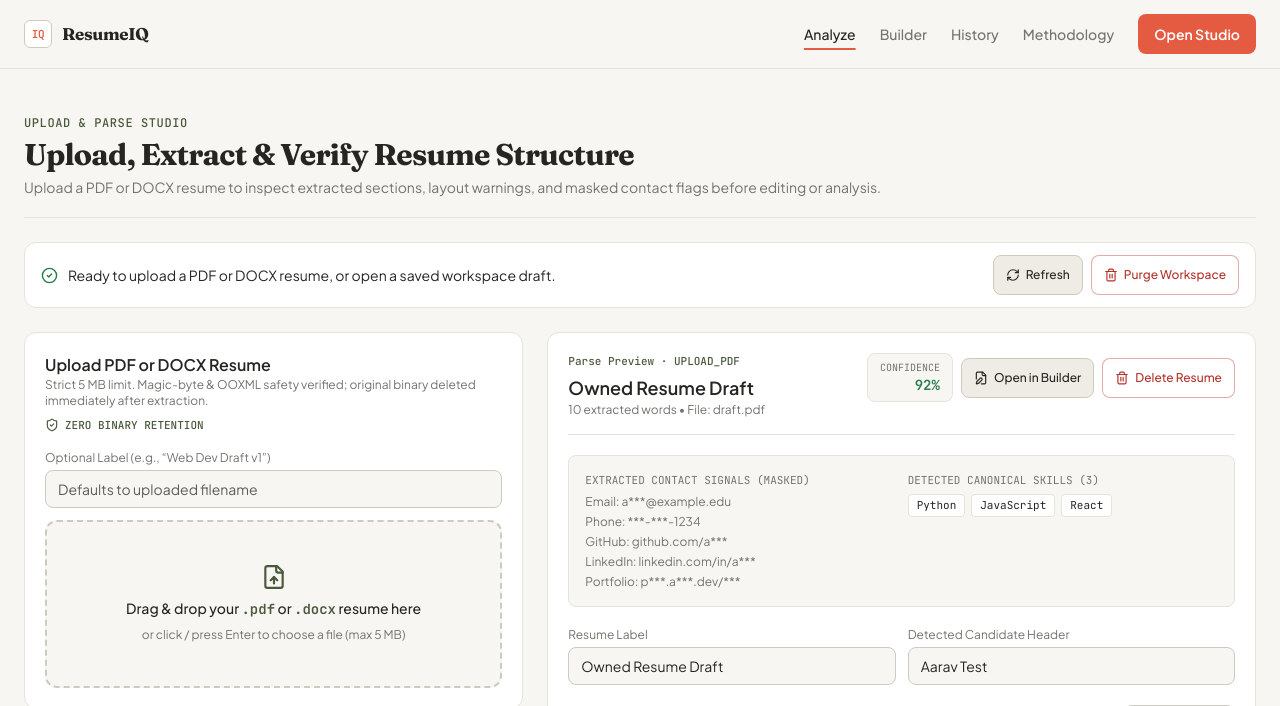
Phase 5 Resume Upload & Editable Parse Preview › requires confirmation before deleting a resume or purging workspace session
Later steps or results of the test are not shown.
Expected: the text "JavaScript" is shown, [971,494,1055,516]
Expected: the list item "GitHub: github.com/a***" is shown, [585,534,728,549]
Click the button "Delete Resume" at (1169, 378), box [1102,358,1235,398]
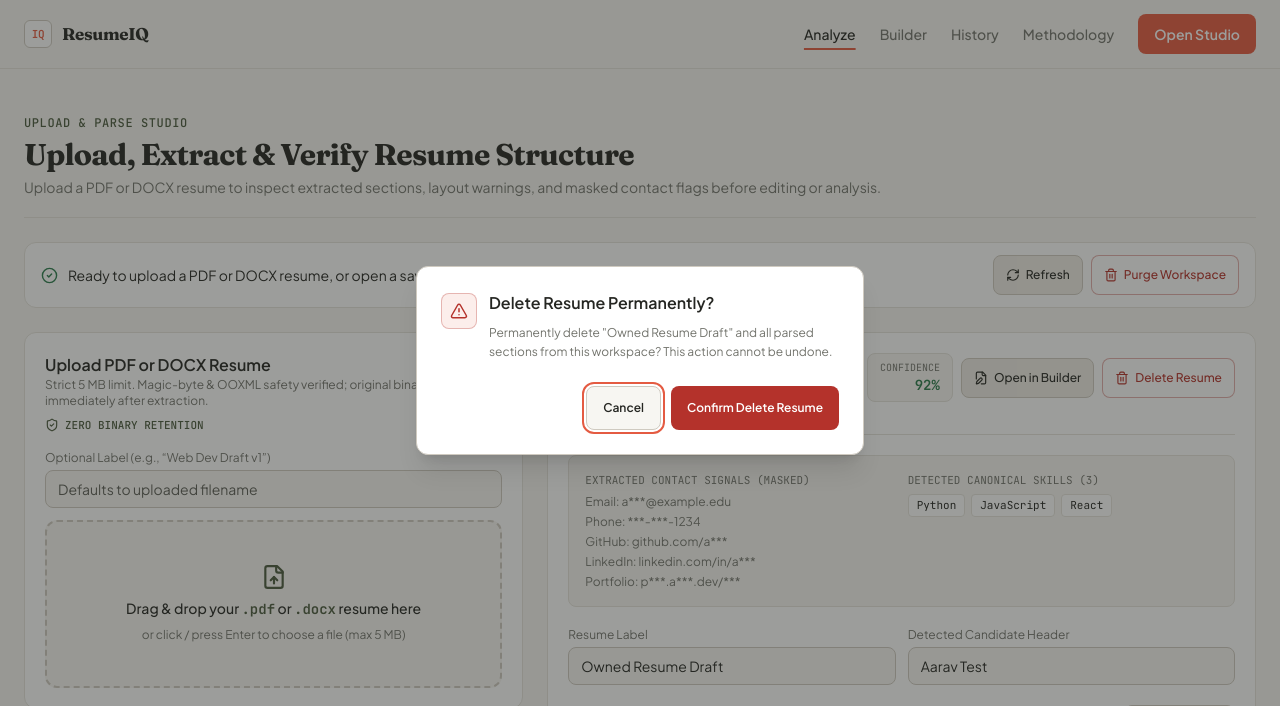
Expected: the dialog shows "Delete Resume Permanently", [489,292,714,312]
Press Escape
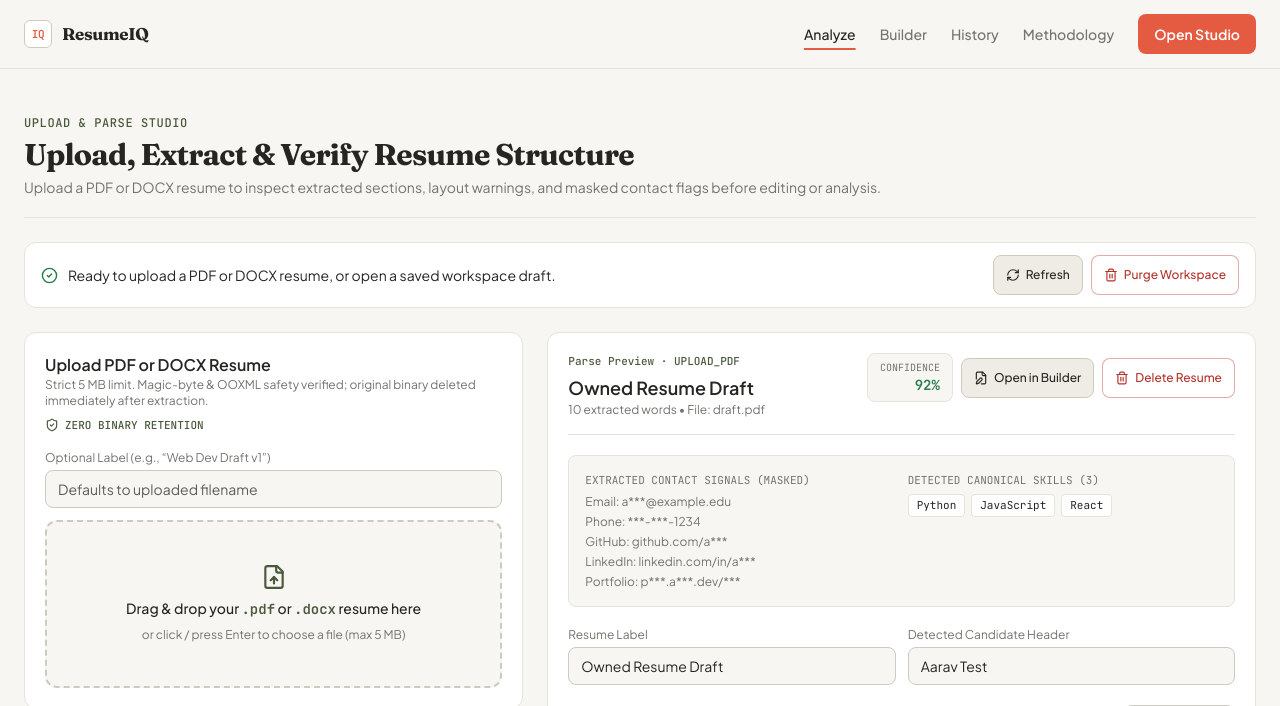
Expected: the dialog is gone
Click the button "Delete Resume" at (1169, 378), box [1102,358,1235,398]
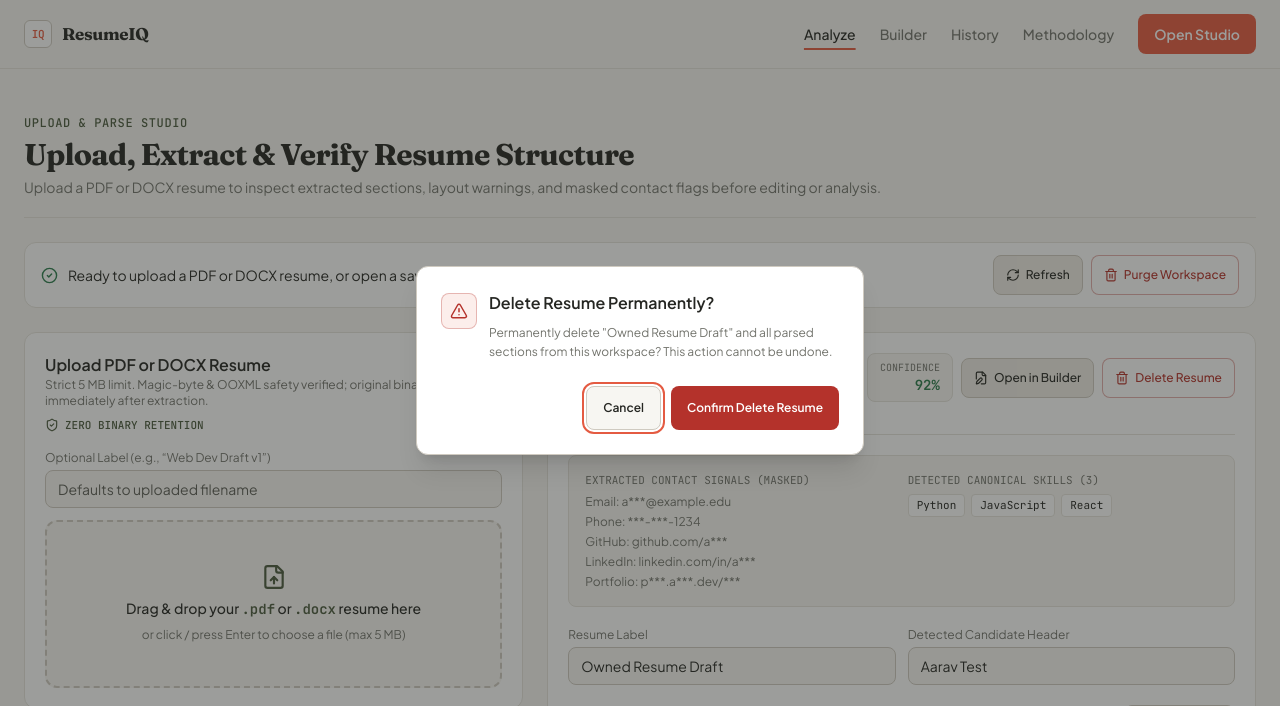
Click the button "Confirm Delete Resume" at (755, 408), box [671,386,839,430]
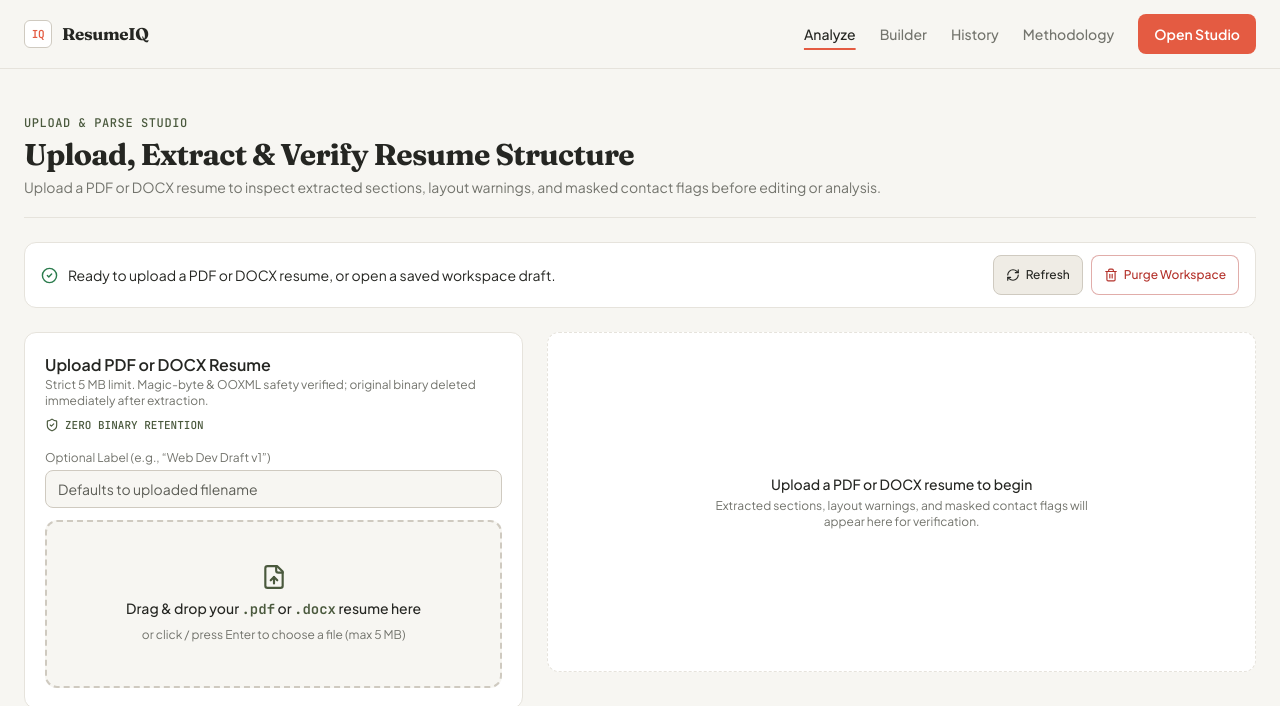
Expected: the dialog is gone
Click the button "Purge Workspace" at (1165, 275), box [1091,255,1239,295]
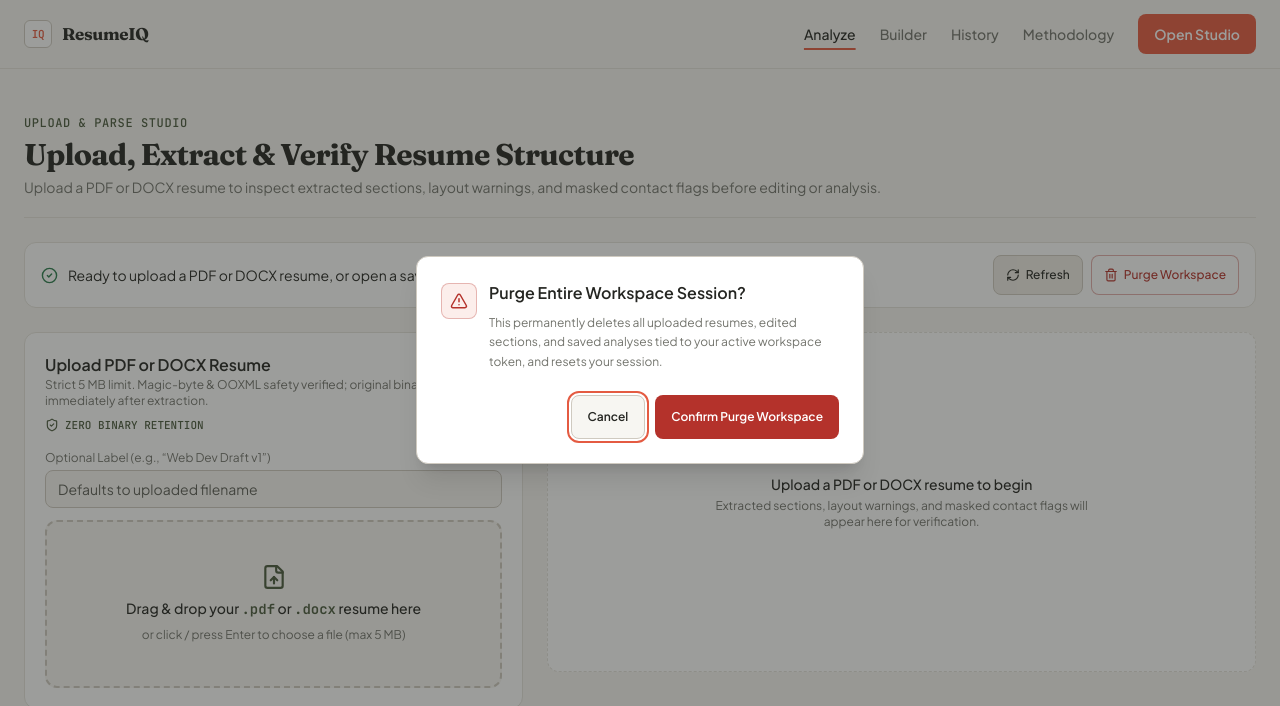
Expected: the dialog shows "Purge Entire Workspace Session", [489,282,746,303]
